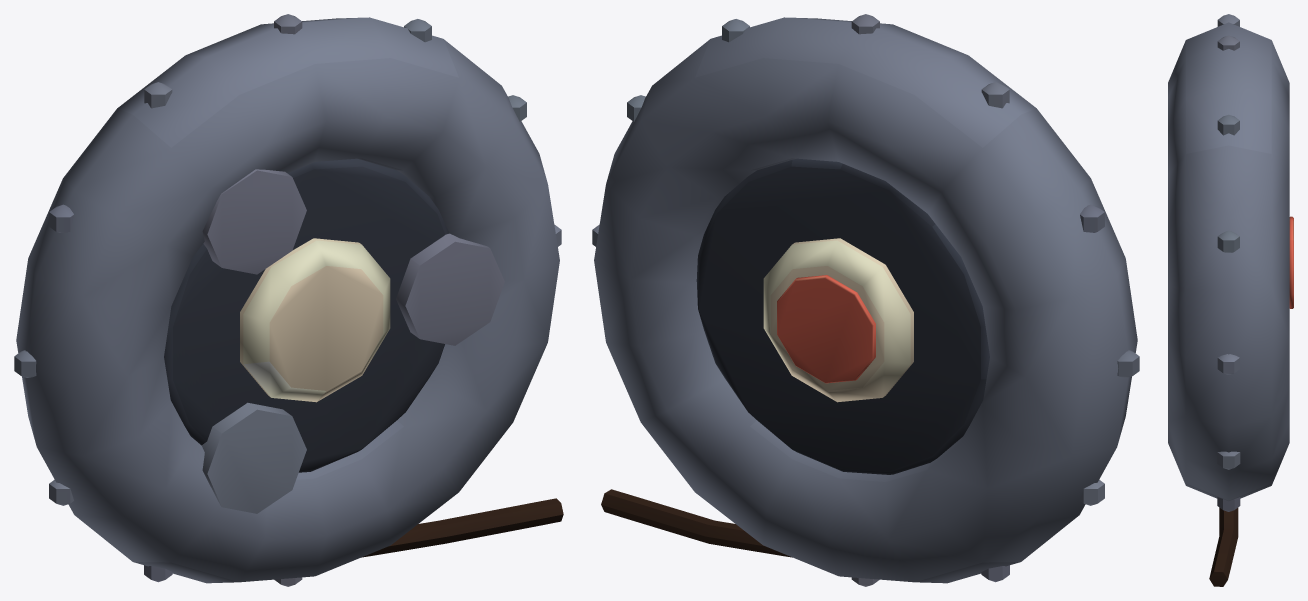
File: SM_Prop_FilmReel.fbx
3 renders of one model, left to right at view 1: azimuth 30°, elevation 25°; view 2: azimuth 150°, elevation 25°; view 3: azimuth 270°, elevation 25°, orthographic. The views are drawn at different scales.
Visible parts, largest first — view 1: SM_Prop_FilmReel; view 2: SM_Prop_FilmReel; view 3: SM_Prop_FilmReel.
Boxes of the visible parts, left/top/right/bottom form: SM_Prop_FilmReel: left=14, top=14, right=563, bottom=586; SM_Prop_FilmReel: left=592, top=14, right=1139, bottom=586; SM_Prop_FilmReel: left=1168, top=14, right=1293, bottom=586.
Bounding box in the file's own units: 49.12 × 49.77 × 12.48.
